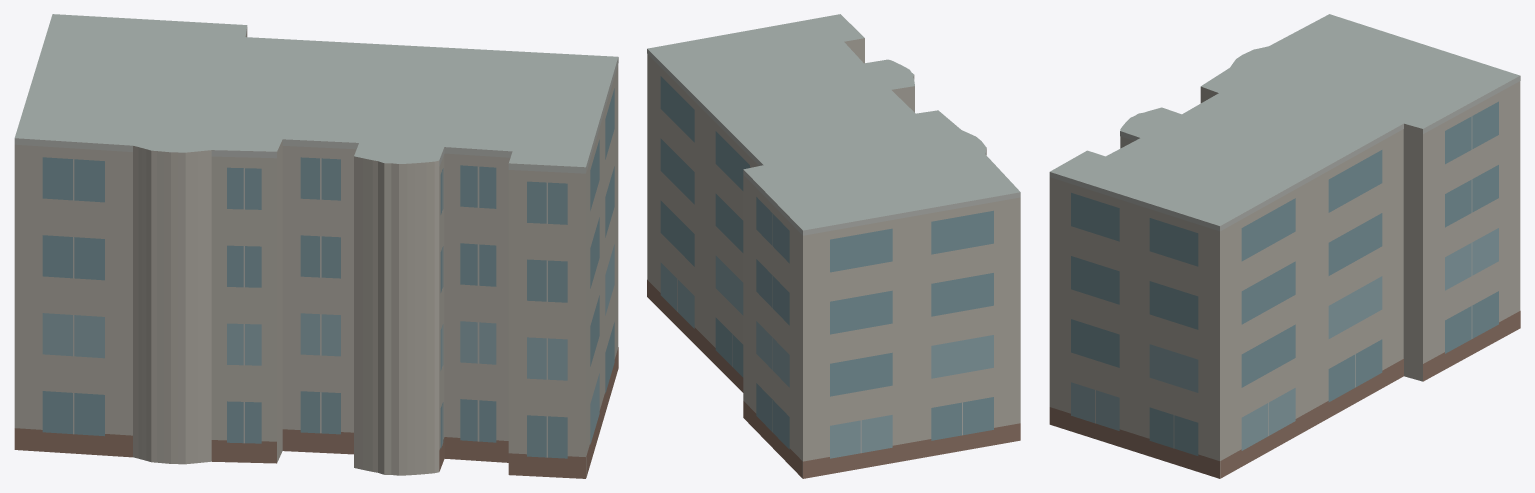
File: survey-upis-33028884.glb
3 renders of one model, left to right at view 1: azimuth 30°, elevation 25°; view 2: azimuth 150°, elevation 25°; view 3: azimuth 270°, elevation 25°, orthographic. The views are drawn at different scales.
Parts seen in each view (by area): view 1: survey-upis-33028884.tmp; view 2: survey-upis-33028884.tmp; view 3: survey-upis-33028884.tmp.
Boxes of the visible parts, box(x1,y1,x2,y2) form: survey-upis-33028884.tmp: box(14, 14, 618, 478); survey-upis-33028884.tmp: box(647, 14, 1020, 478); survey-upis-33028884.tmp: box(1049, 14, 1520, 478).
Size of the model in its own units: 21.08 by 11.7 by 19.77.
